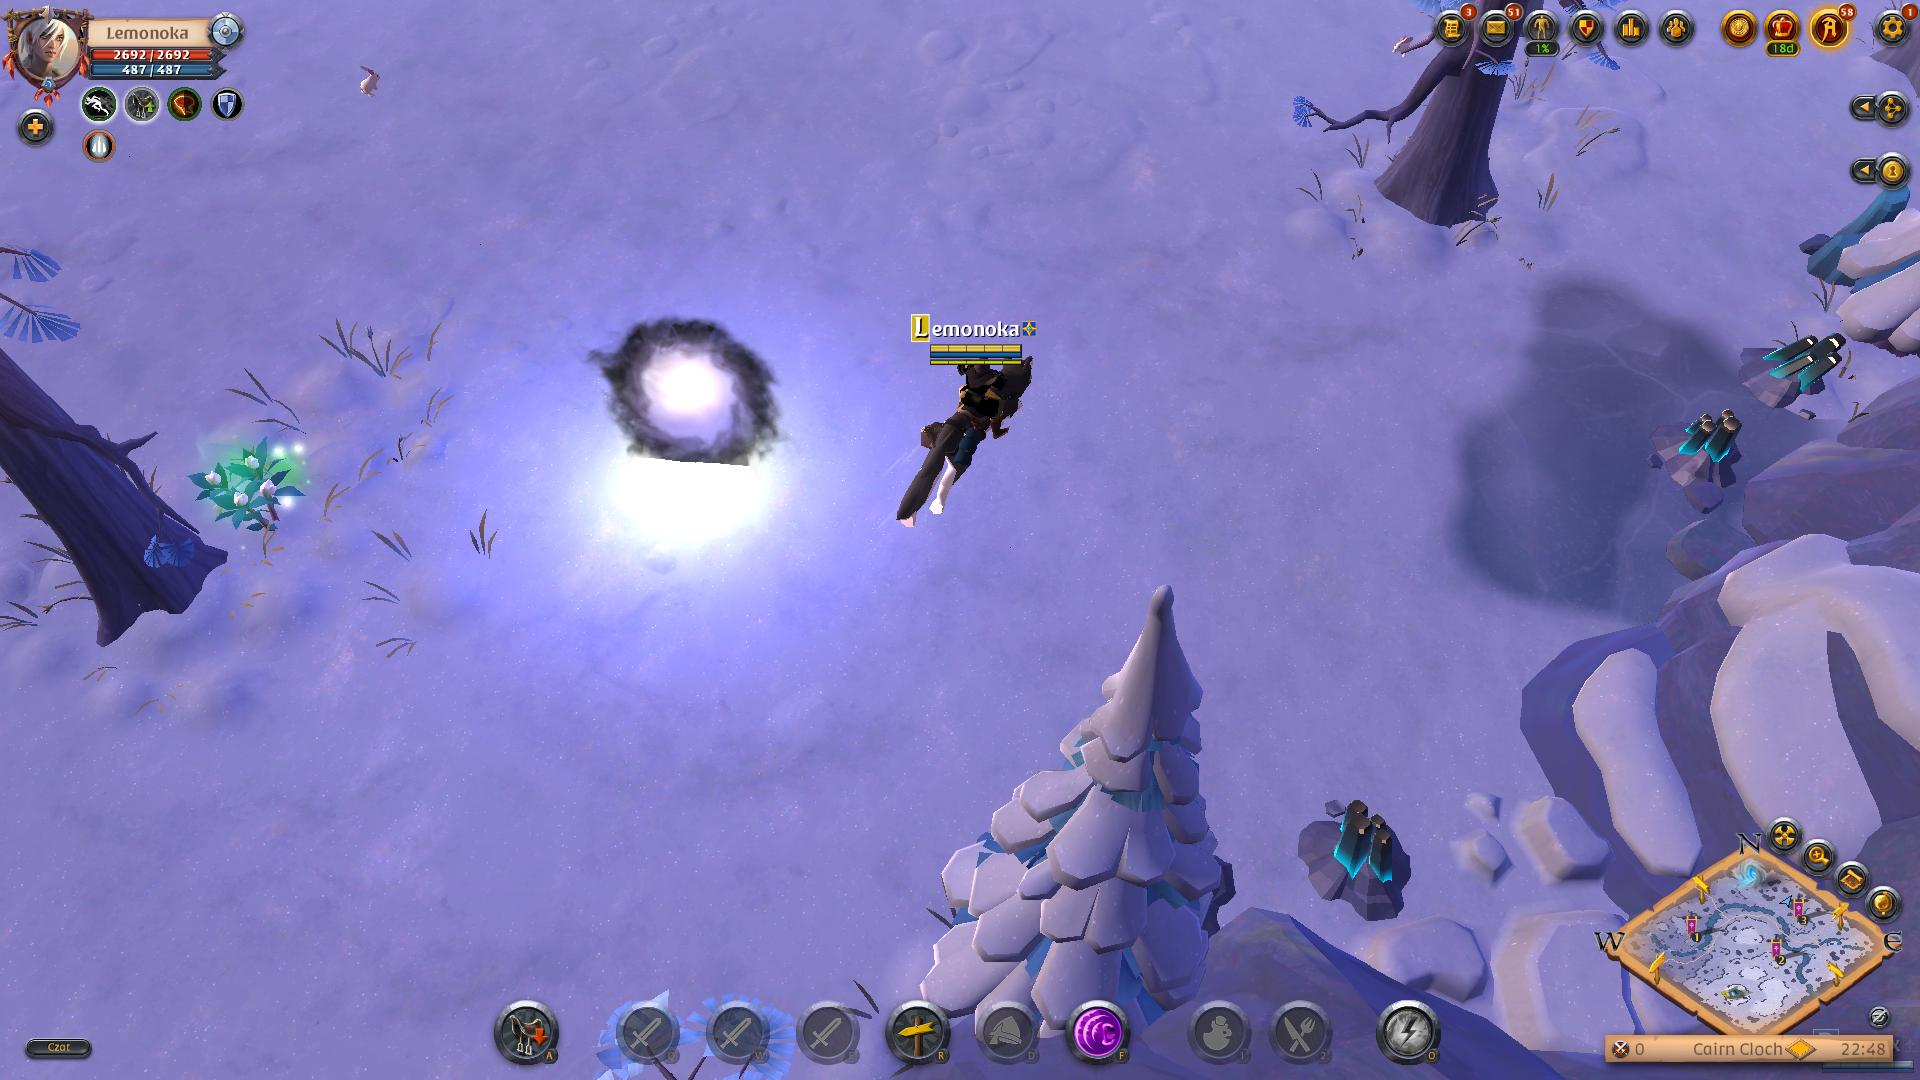fiber tier 4: (196, 433, 311, 545)
ore tier 4: (1300, 793, 1416, 927), (1756, 328, 1844, 410), (1669, 406, 1750, 493)
